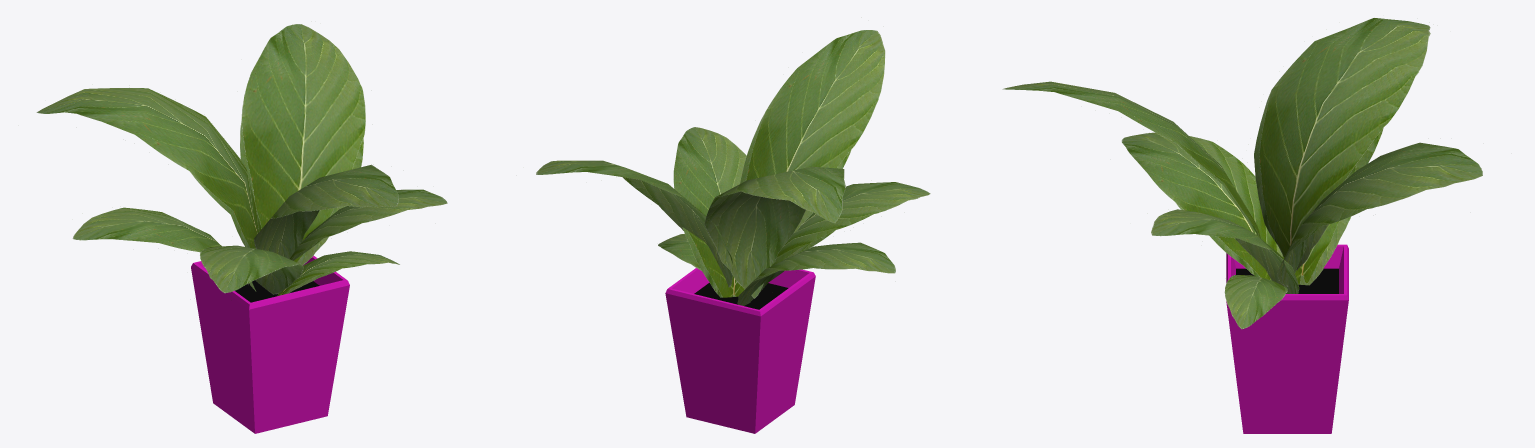
The model's file is plant4.FBX.
The picture shows the model from 3 angles, left to right: view 1: azimuth 30°, elevation 25°; view 2: azimuth 150°, elevation 25°; view 3: azimuth 270°, elevation 25°; orthographic projection. The views are drawn at different scales.
Parts seen in each view (by area): view 1: Box006, Box024; view 2: Box006, Box024; view 3: Box006, Box024.
Boxes of the visible parts, x1,y1,x2,y2 form: Box006: (36, 24, 447, 296); Box024: (191, 256, 349, 433); Box006: (536, 30, 930, 305); Box024: (665, 268, 815, 433); Box006: (1002, 18, 1482, 329); Box024: (1226, 244, 1348, 433).
Size of the model in its own units: 52.97 by 43.64 by 65.32.
